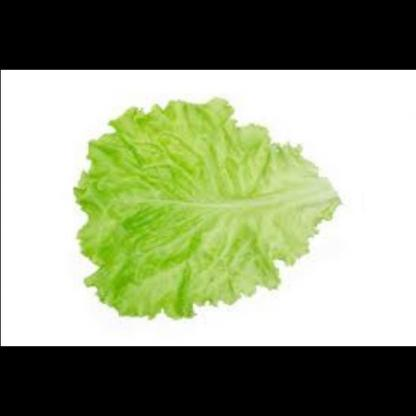salad: (68, 90, 344, 327)
